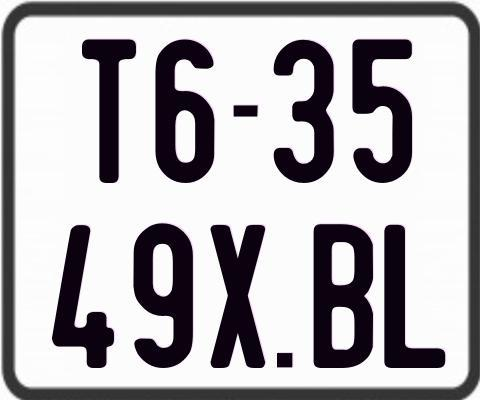3: (271, 40, 334, 183)
4: (49, 225, 113, 373)
5: (350, 36, 413, 180)
6: (154, 39, 214, 184)
9: (133, 223, 197, 374)
B: (311, 223, 376, 372)
L: (384, 223, 445, 369)
T: (80, 36, 139, 182)
X: (210, 222, 264, 370)
